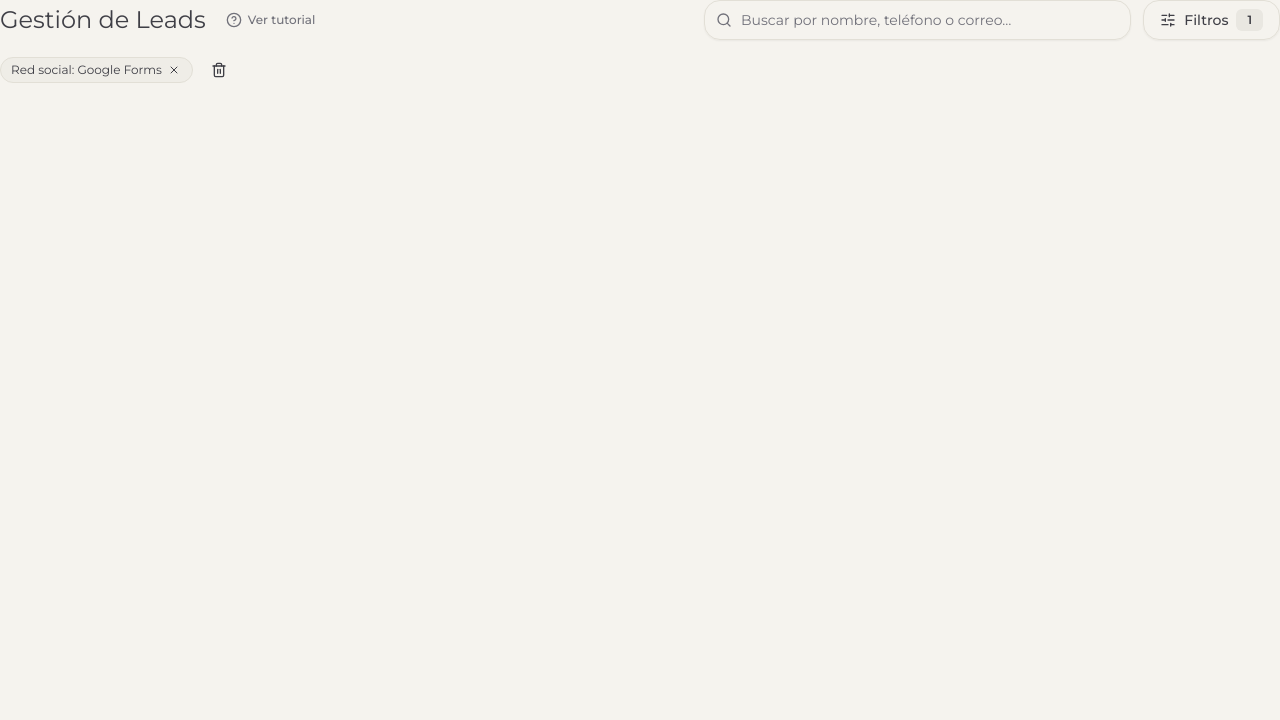
Test case: LeadsFiltros — catálogo de red social en cascada (GET /leads/catalogo/redes-sociales) › un redSocial ya seleccionado que dejó de tener leads en el resto de los filtros se mantiene como opción, no desaparece
Step 1. Click the button "Filtros 1" → (1212, 20), box [1143,0,1279,40]
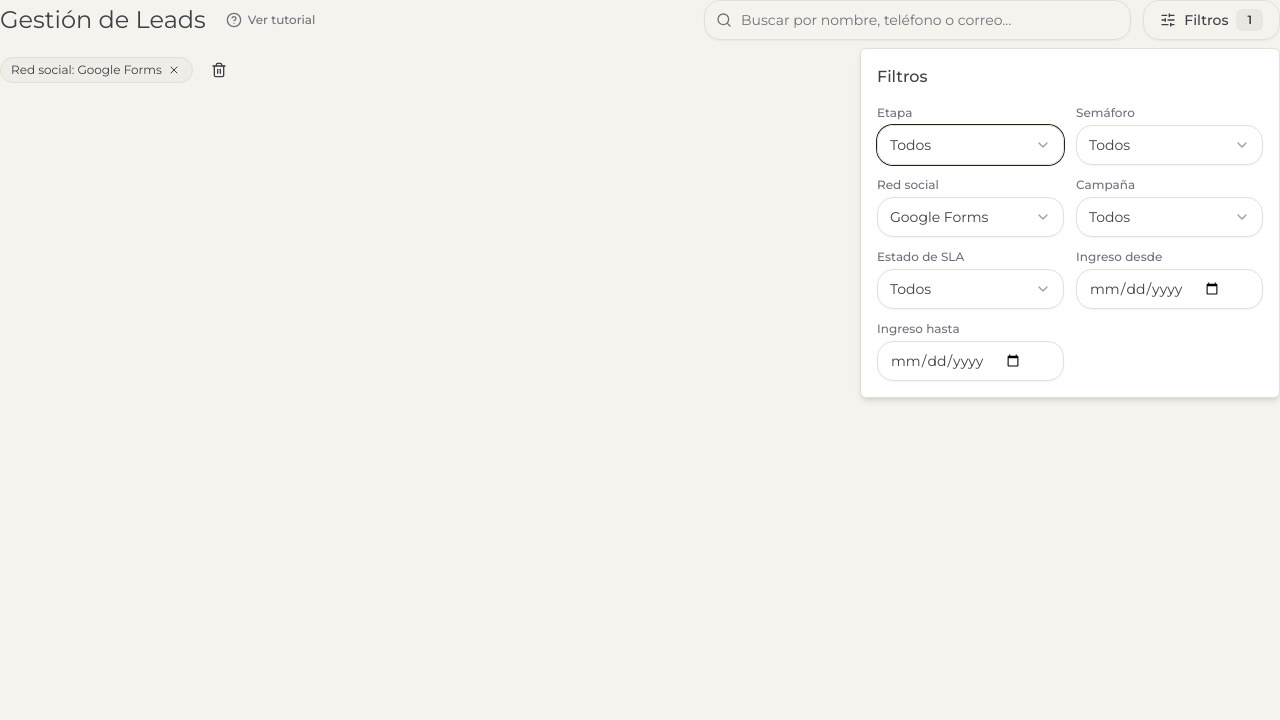
Check: the dropdown named "Red social" is enabled
Step 2. Click the dropdown named "Red social" → (970, 217), box [877,197,1064,237]
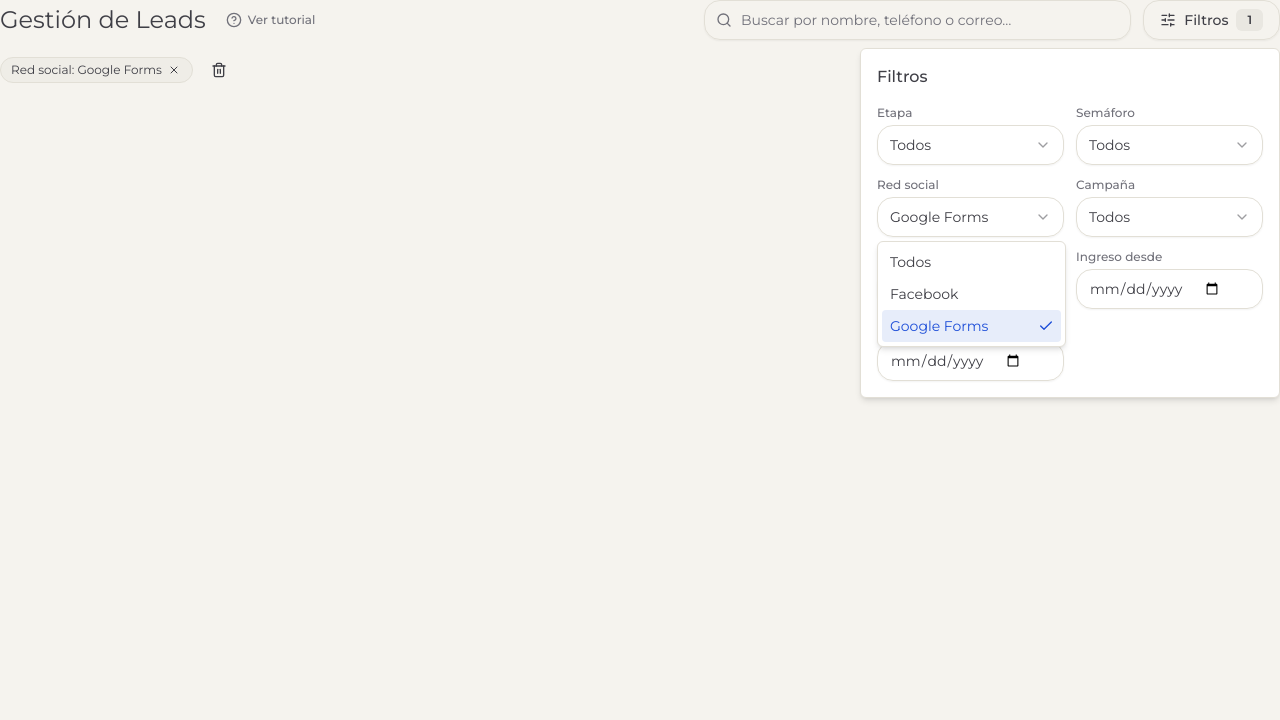
Check: the option "Google Forms" is shown, box [882,310,1061,342]
